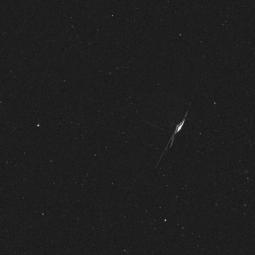soho: (103, 64, 210, 159)
